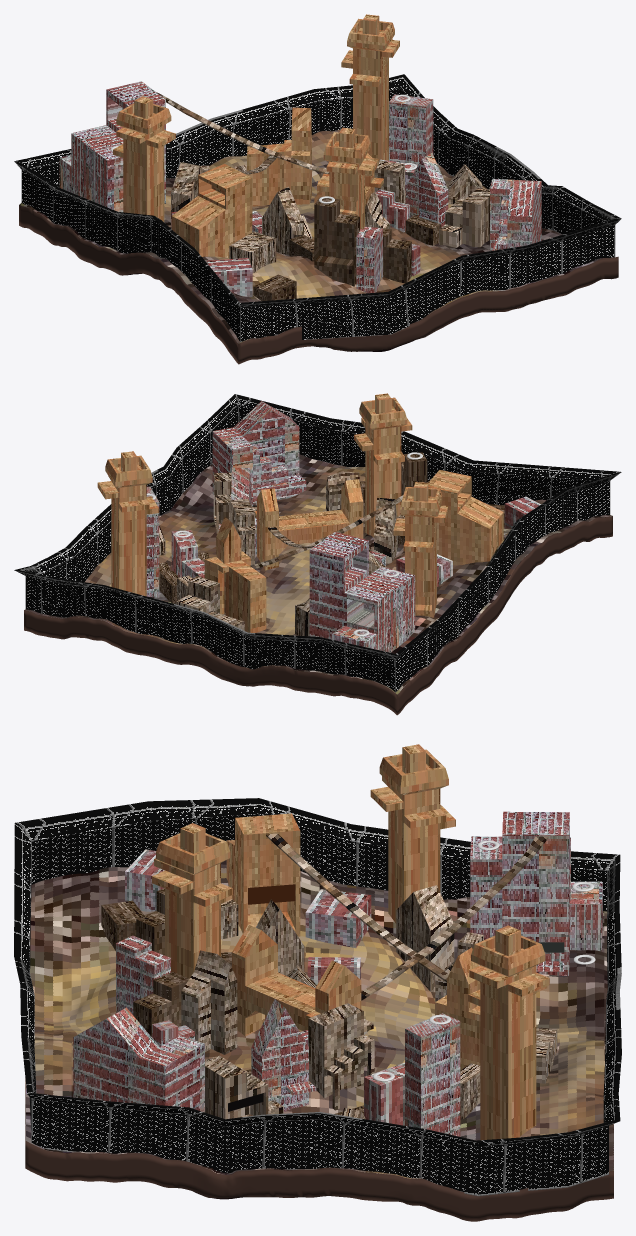
Rendered from worms level.fbx.
The picture shows the model from 3 angles, top to bottom: view 1: azimuth 30°, elevation 25°; view 2: azimuth 150°, elevation 25°; view 3: azimuth 270°, elevation 25°; orthographic projection. The views are drawn at different scales.
Visible parts, largest first — view 1: Plane.003, Plane, Cube.004, Cube.022, Cube.035, Cube.036, Cube.019, Cube.006, Cube.017, Cube.009, Cube.037, Cube.016 (+15 smaller); view 2: Plane.003, Plane, Cube.004, Cube.017, Cube.036, Cube.022, Cube.006, Cube.034, Cube.035, Cube.019, Cube.018, Cube.037 (+12 smaller); view 3: Plane.003, Plane, Cube.004, Cube.036, Cube.017, Cube.035, Cube.006, Cube.034, Cube.022, Cube.037, Cube.014, Cube.007 (+20 smaller).
Boxes of the visible parts, bbox=[...] form: Plane.003: bbox=[14, 74, 621, 342]; Plane: bbox=[19, 129, 618, 364]; Cube.004: bbox=[59, 81, 165, 212]; Cube.022: bbox=[171, 164, 252, 257]; Cube.035: bbox=[113, 96, 175, 221]; Cube.036: bbox=[341, 14, 399, 160]; Cube.019: bbox=[247, 107, 311, 206]; Cube.006: bbox=[317, 127, 378, 229]; Cube.017: bbox=[490, 178, 541, 250]; Cube.009: bbox=[314, 197, 359, 286]; Cube.037: bbox=[389, 94, 433, 164]; Cube.016: bbox=[439, 187, 489, 247]; Plane.003: bbox=[14, 394, 621, 692]; Plane: bbox=[24, 454, 612, 715]; Cube.004: bbox=[309, 532, 415, 652]; Cube.017: bbox=[212, 401, 306, 506]; Cube.036: bbox=[97, 451, 158, 596]; Cube.022: bbox=[428, 470, 503, 564]; Cube.006: bbox=[354, 393, 412, 537]; Cube.034: bbox=[254, 479, 363, 570]; Cube.035: bbox=[393, 482, 448, 617]; Cube.019: bbox=[204, 516, 266, 632]; Cube.018: bbox=[176, 576, 244, 630]; Cube.037: bbox=[146, 486, 159, 597]; Plane.003: bbox=[14, 798, 621, 1196]; Plane: bbox=[25, 860, 613, 1221]; Cube.004: bbox=[470, 811, 602, 975]; Cube.036: bbox=[468, 925, 549, 1140]; Cube.017: bbox=[73, 1007, 204, 1112]; Cube.035: bbox=[370, 744, 455, 923]; Cube.006: bbox=[152, 823, 232, 978]; Cube.034: bbox=[232, 924, 361, 1036]; Cube.022: bbox=[226, 813, 300, 936]; Cube.037: bbox=[405, 1013, 460, 1136]; Cube.014: bbox=[308, 1003, 374, 1110]; Cube.007: bbox=[181, 950, 237, 1054].
Bounding box in the file's own units: 11600 × 5392 × 11560.
